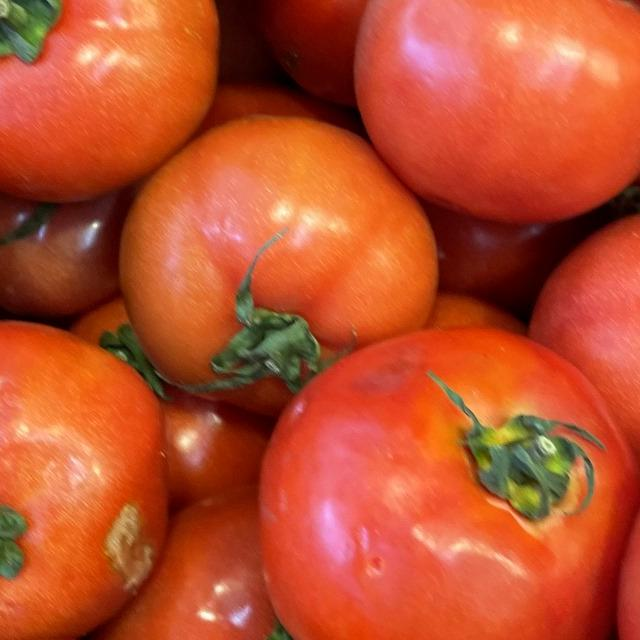tomato: (247, 282, 640, 640), (330, 0, 640, 247), (0, 287, 202, 640), (0, 0, 235, 210)
